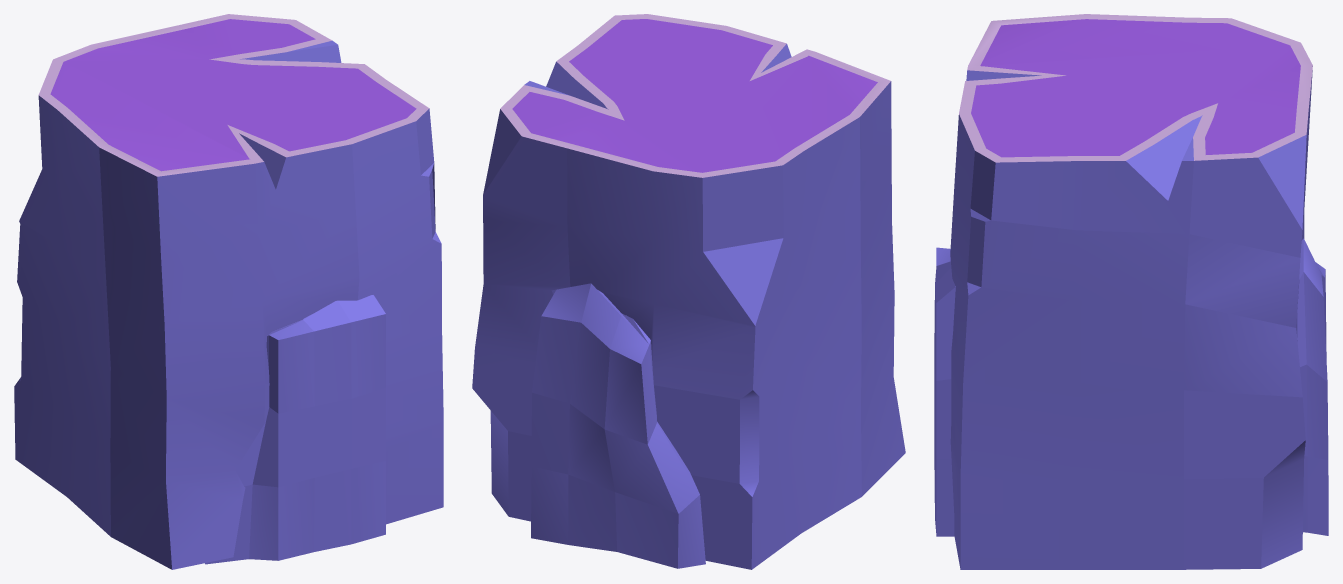
File: Wall_Tile_GemGrab2.fbx
3 renders of one model, left to right at view 1: azimuth 30°, elevation 25°; view 2: azimuth 150°, elevation 25°; view 3: azimuth 270°, elevation 25°, orthographic. The views are drawn at different scales.
Parts seen in each view (by area): view 1: Wall_Tile_GemGrab2; view 2: Wall_Tile_GemGrab2; view 3: Wall_Tile_GemGrab2.
Part boxes in pixels (x1,y1,x2,y2): Wall_Tile_GemGrab2: [14, 14, 443, 569]; Wall_Tile_GemGrab2: [472, 14, 905, 569]; Wall_Tile_GemGrab2: [934, 14, 1328, 569].
Bounding box in the file's own units: 2.04 × 2.27 × 2.65.
